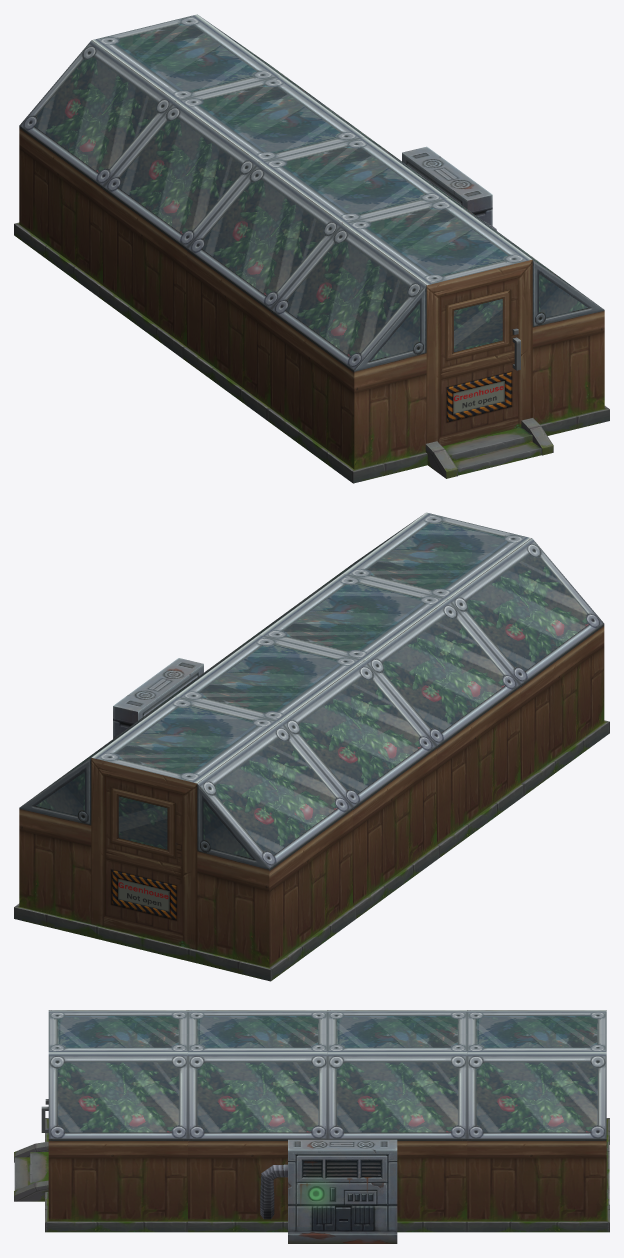
File: scene_shenmisenlin_wsgz01.FBX
3 views of the same model, one above another, from view 1: azimuth 30°, elevation 25°; view 2: azimuth 150°, elevation 25°; view 3: azimuth 270°, elevation 25° (orthographic). The views are drawn at different scales.
Parts seen in each view (by area): view 1: scene_shenmisenlin_wsgz01; view 2: scene_shenmisenlin_wsgz01; view 3: scene_shenmisenlin_wsgz01.
Boxes of the visible parts, bbox=[...] form: scene_shenmisenlin_wsgz01: bbox=[14, 14, 609, 483]; scene_shenmisenlin_wsgz01: bbox=[14, 512, 609, 981]; scene_shenmisenlin_wsgz01: bbox=[14, 1010, 609, 1243].
Bounding box in the file's own units: 367 × 219 × 797.
